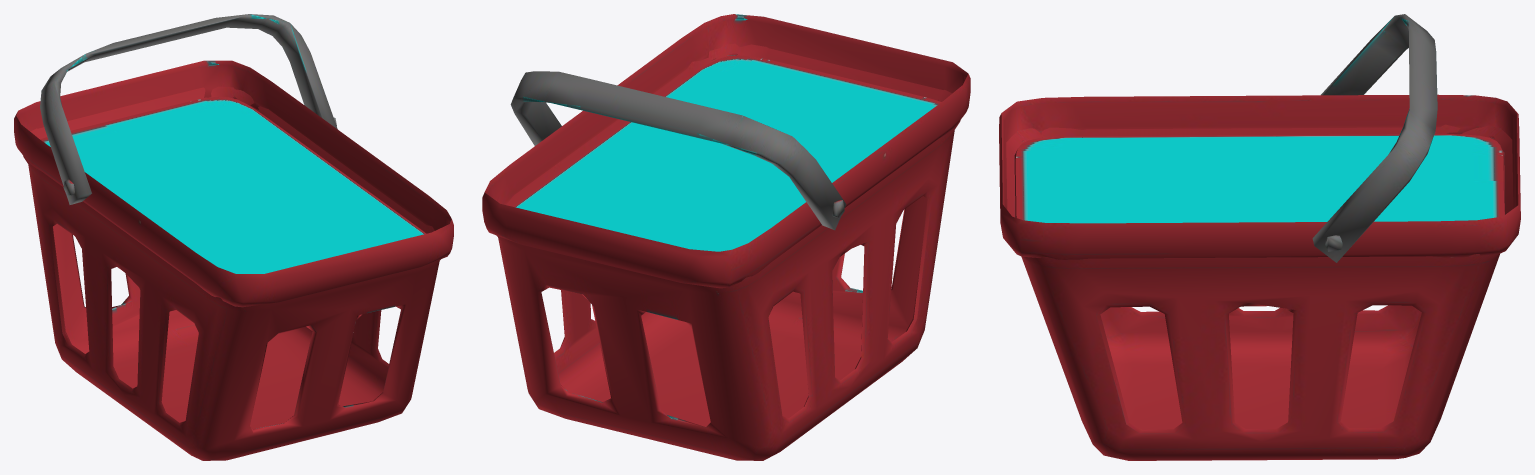
File: корзюшкаfbx.fbx
3 renders of one model, left to right at view 1: azimuth 30°, elevation 25°; view 2: azimuth 150°, elevation 25°; view 3: azimuth 270°, elevation 25°, orthographic. The views are drawn at different scales.
Visible parts, largest first — view 1: backtrack (1).003; view 2: backtrack (1).003; view 3: backtrack (1).003.
Boxes of the visible parts, x1,y1,x2,y2 form: backtrack (1).003: (14,14,453,460); backtrack (1).003: (482,14,970,460); backtrack (1).003: (999,14,1520,460).
Bounding box in the file's own units: 35.62 × 40.14 × 54.27.
1 material, 1 textured.
